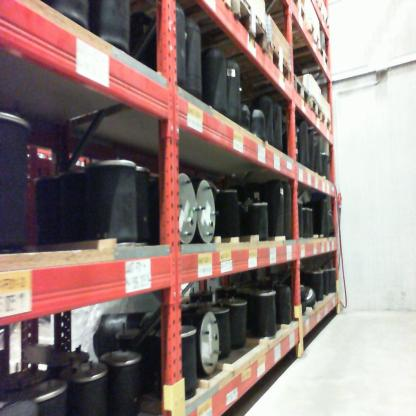pallet: (156, 4, 269, 69), (202, 47, 296, 95), (260, 3, 322, 48), (285, 48, 331, 78), (293, 77, 311, 111), (307, 95, 322, 126), (320, 107, 332, 139)
